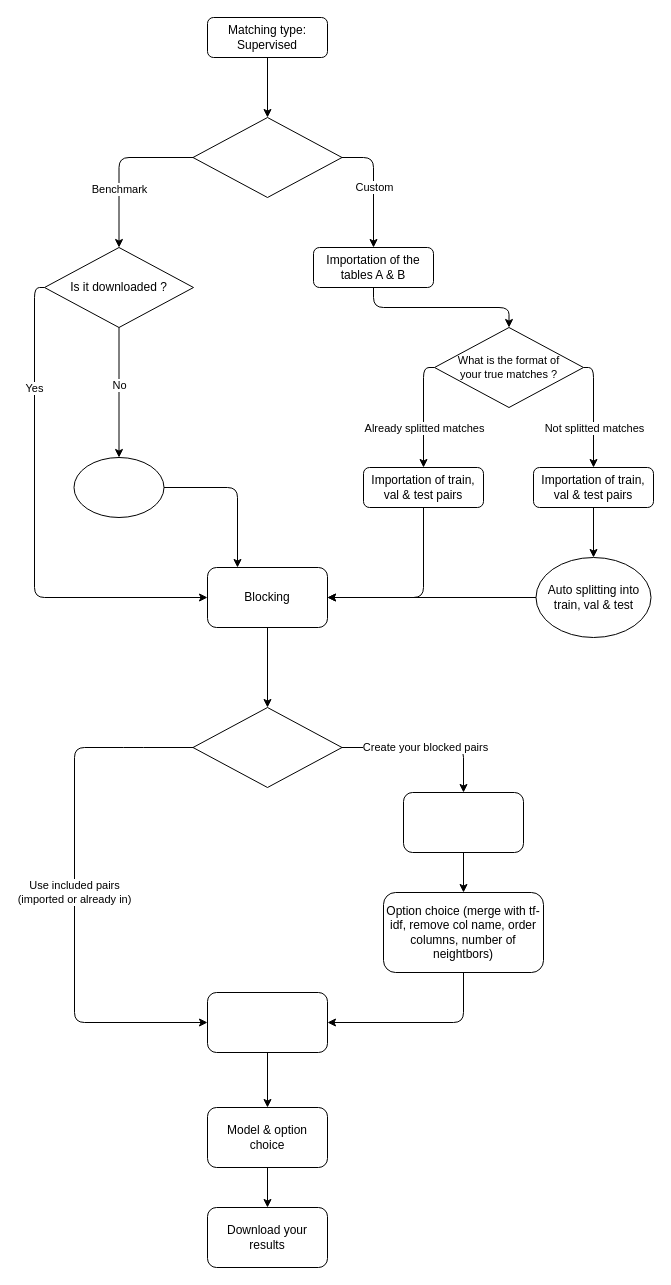
This 671x1285 diagram has some shape labels left out. The centre of each missing label's shape, as x and y in pixels:
Auto downloading: (x=118, y=487)
Bloxking choice: (x=267, y=747)
Dataset choice: (x=267, y=157)
Embedding model choice: (x=463, y=822)
Matching: (x=267, y=1022)
